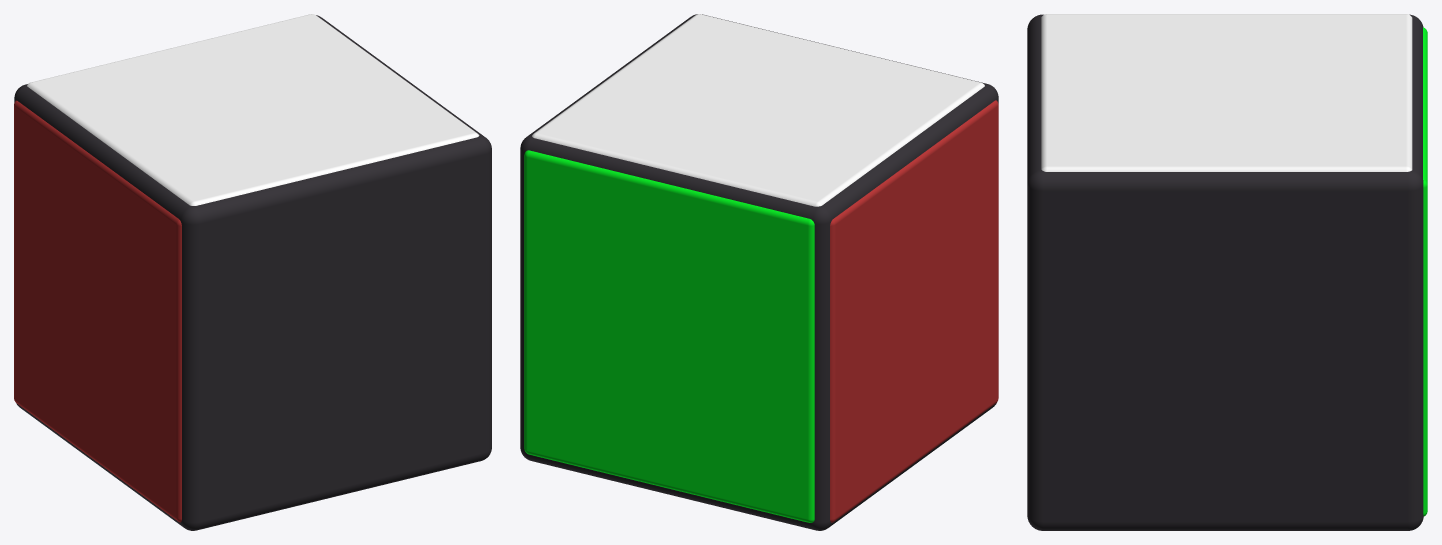
File: wrgCorner.obj
3 renders of one model, left to right at view 1: azimuth 30°, elevation 25°; view 2: azimuth 150°, elevation 25°; view 3: azimuth 270°, elevation 25°, orthographic. The views are drawn at different scales.
Parts seen in each view (by area): view 1: 000_Base, 001_red, 002_white; view 2: 003_green, 001_red, 002_white, 000_Base; view 3: 000_Base, 002_white, 003_green.
Boxes of the visible parts, x1,y1,x2,y2 form: 000_Base: (14, 15, 491, 530); 001_red: (14, 100, 181, 522); 002_white: (27, 14, 479, 205); 003_green: (524, 150, 814, 522); 001_red: (830, 100, 998, 522); 002_white: (532, 14, 984, 206); 000_Base: (520, 14, 998, 530); 000_Base: (1027, 14, 1423, 530); 002_white: (1041, 14, 1412, 171); 003_green: (1423, 27, 1427, 516).
Size of the model in its own units: 101 by 101 by 101.
